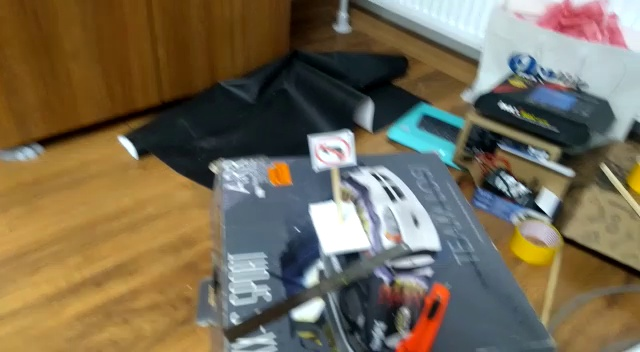sola_donulmez: (314, 133, 351, 166)
